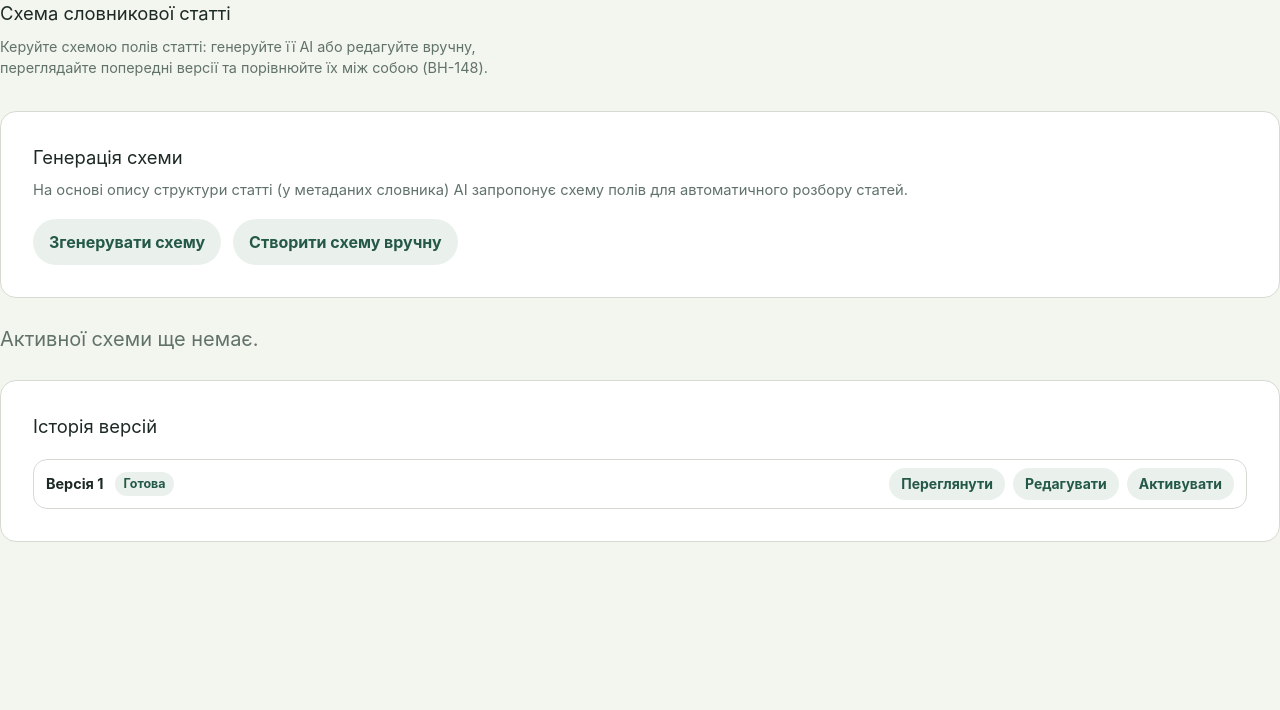
ArticleSchemaPage › blocks saving a version with no presentation formula
Click the button "Редагувати" at (1066, 484), box [1013,468,1119,500]
(page scrolled)
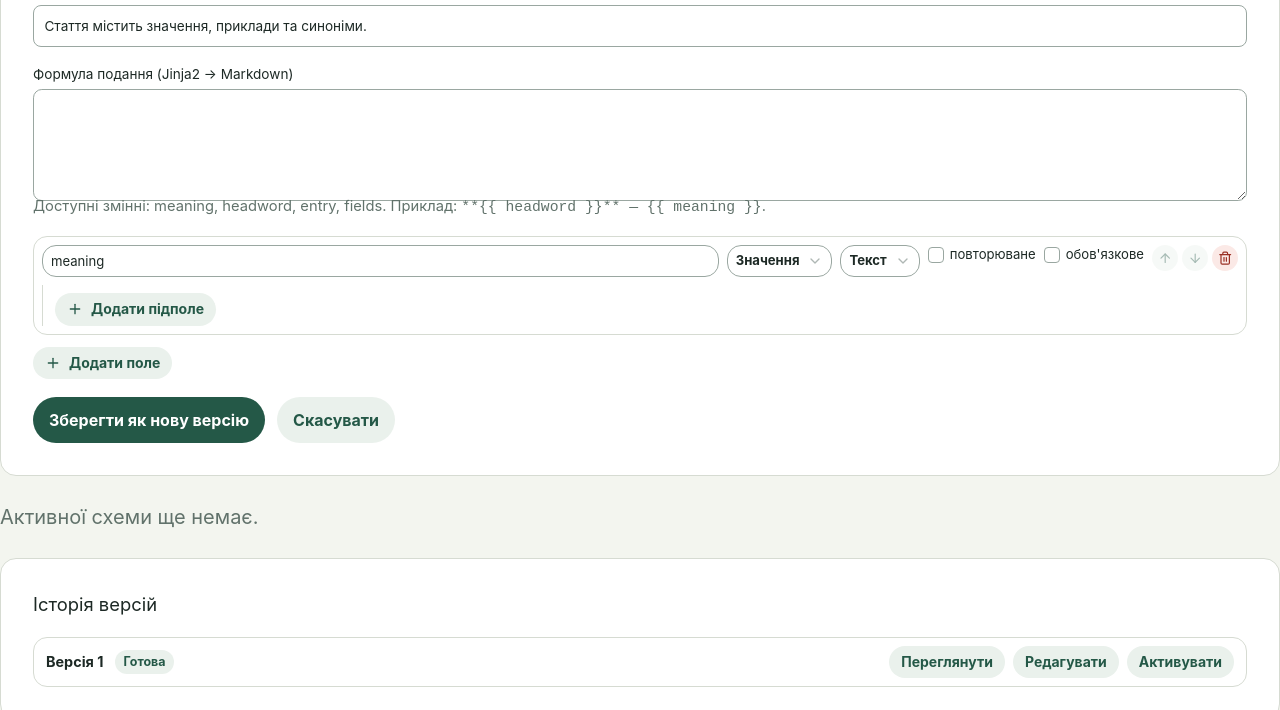
Click the button "Зберегти як нову версію" at (149, 420), box [33,397,265,443]
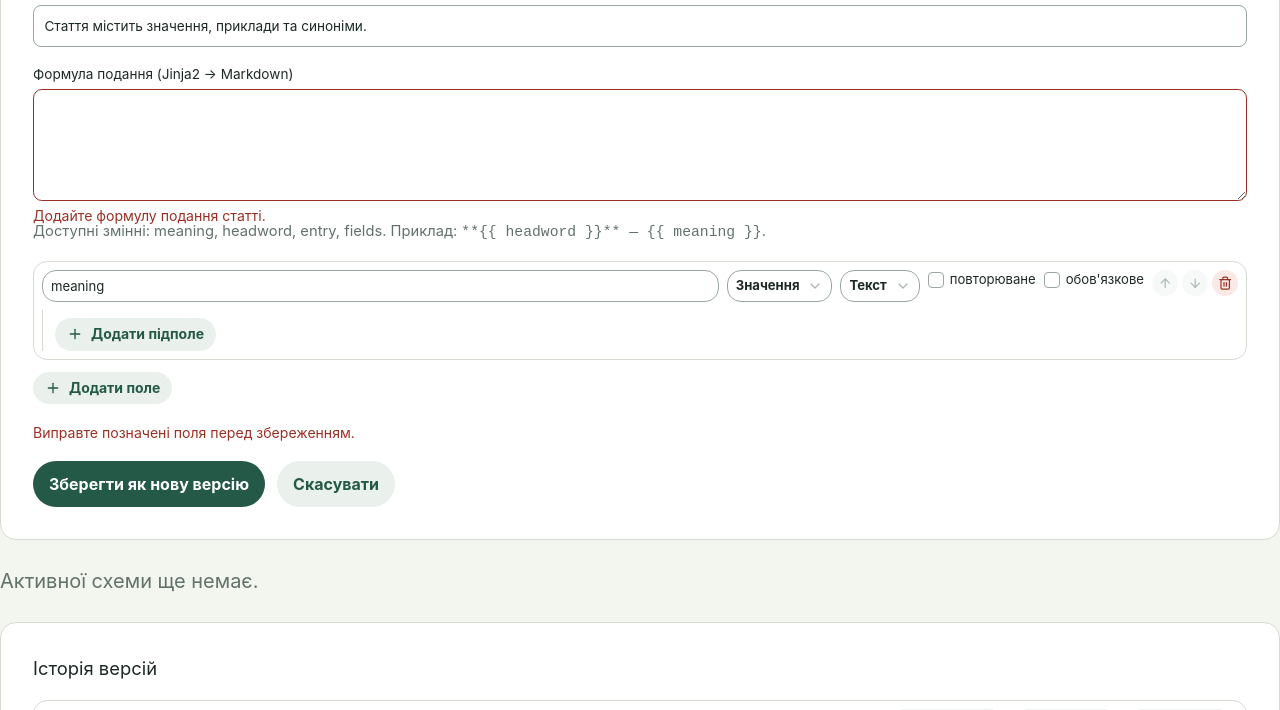
Expected: the text "Додайте формулу подання статті." is shown, [33,207,266,224]
